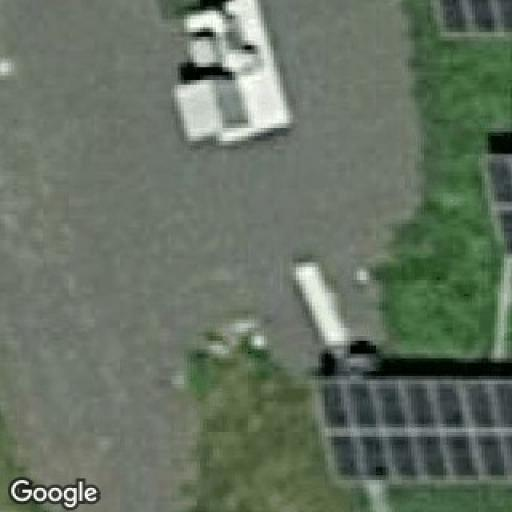solar-panel: (304, 371, 512, 488), (473, 147, 512, 265), (427, 0, 512, 45)
